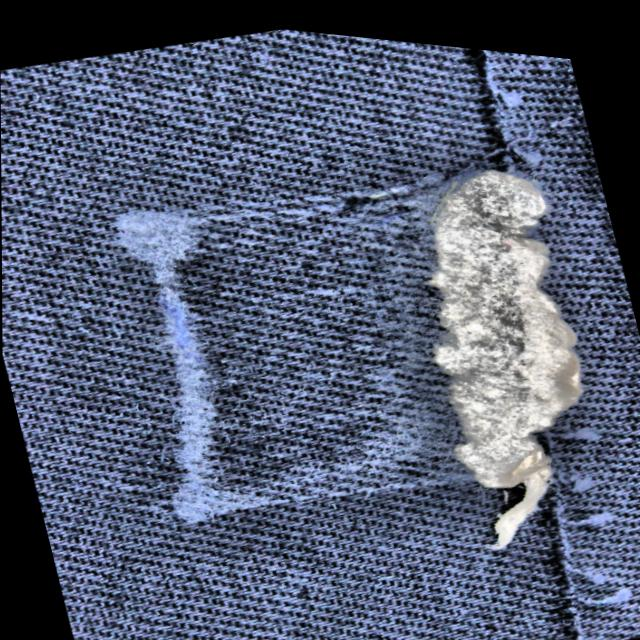Hole: (96, 107, 596, 559)
